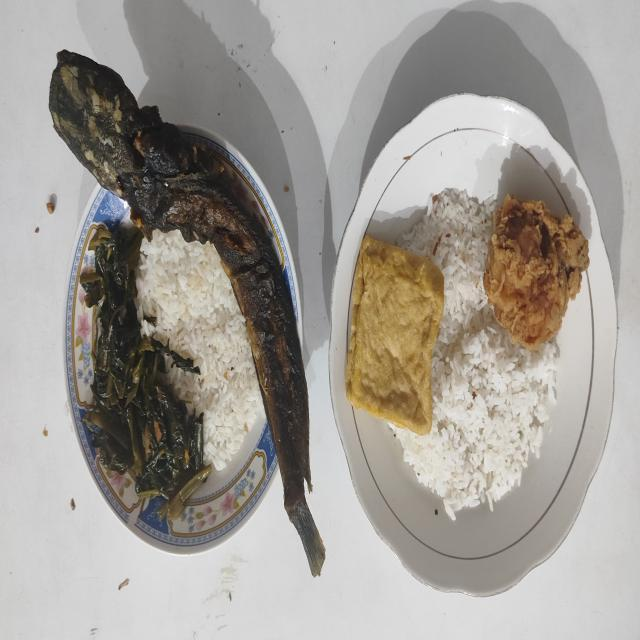nasi_putih: (390, 190, 560, 520), (136, 230, 264, 470)
tahu_goreng: (345, 236, 444, 435)
tumis_kangkung: (80, 225, 208, 510)
